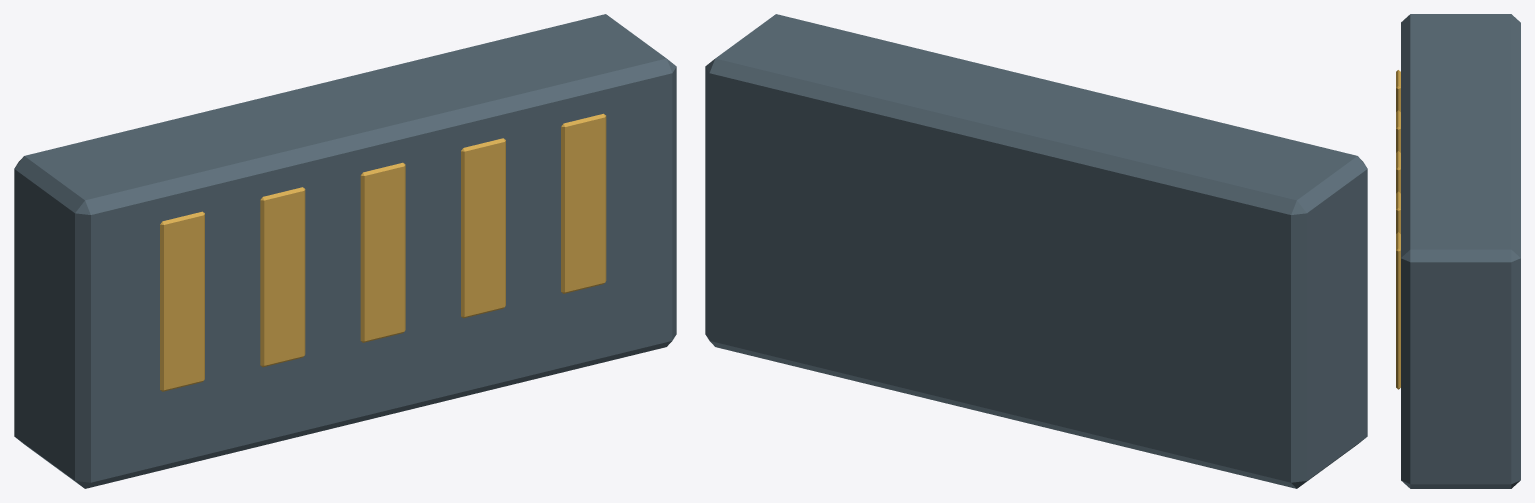
Rendered from road-barrier.glb.
The picture shows the model from 3 angles, left to right: view 1: azimuth 30°, elevation 25°; view 2: azimuth 150°, elevation 25°; view 3: azimuth 270°, elevation 25°; orthographic projection. The views are drawn at different scales.
Parts seen in each view (by area): view 1: barrier, hazard-stripe.001, hazard-stripe.002, hazard-stripe.004, hazard-stripe, hazard-stripe.003; view 2: barrier; view 3: barrier, hazard-stripe.004, hazard-stripe.002, hazard-stripe, hazard-stripe.003, hazard-stripe.001.
Boxes of the visible parts, x1,y1,x2,y2 form: barrier: (14, 14, 676, 488); hazard-stripe.001: (260, 187, 305, 367); hazard-stripe.002: (360, 162, 405, 342); hazard-stripe.004: (561, 113, 606, 293); hazard-stripe: (160, 211, 204, 391); hazard-stripe.003: (461, 138, 505, 318); barrier: (705, 14, 1367, 488); barrier: (1401, 14, 1520, 488); hazard-stripe.004: (1396, 232, 1400, 389); hazard-stripe.002: (1396, 151, 1400, 193); hazard-stripe: (1396, 70, 1400, 111); hazard-stripe.003: (1396, 191, 1400, 233); hazard-stripe.001: (1396, 110, 1400, 152).
Bounding box in the file's own units: 2.4 × 1.1 × 0.52.
